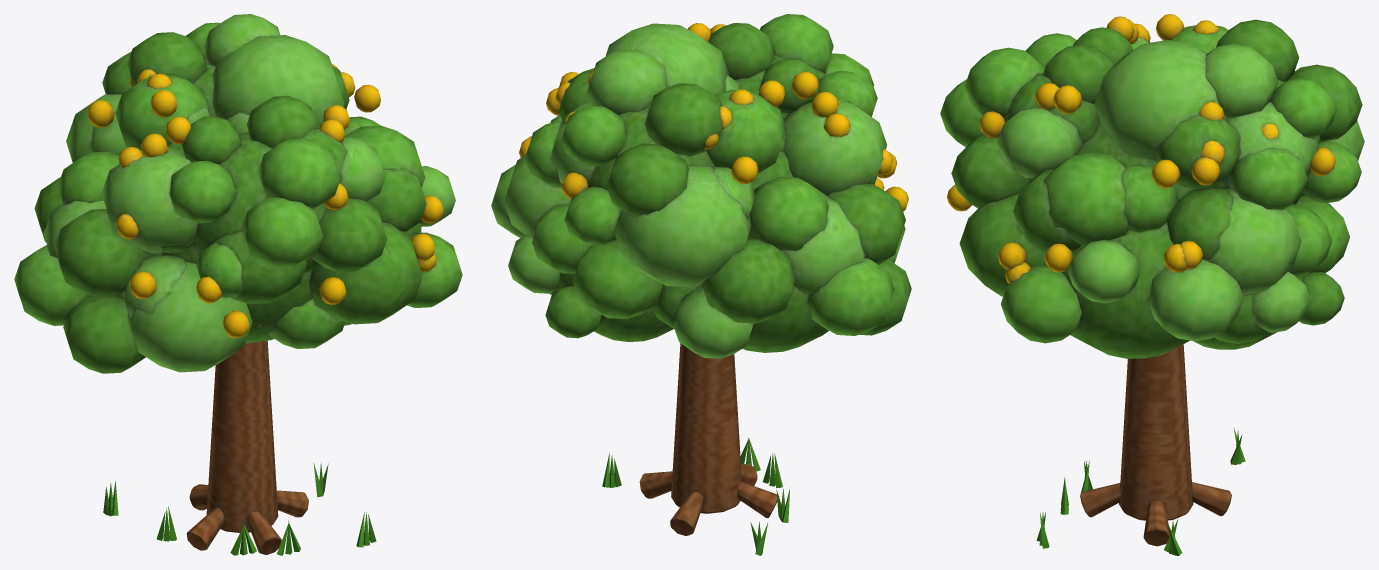
Rendered from golden_apple_tree.glb.
The picture shows the model from 3 angles, left to right: view 1: azimuth 30°, elevation 25°; view 2: azimuth 150°, elevation 25°; view 3: azimuth 270°, elevation 25°; orthographic projection. The views are drawn at different scales.
Visible parts, largest first — view 1: crown, golden_apple_tree; view 2: crown, golden_apple_tree; view 3: crown, golden_apple_tree.
Part boxes in pixels (bbox=[...]): crown: bbox=[14, 14, 462, 373]; golden_apple_tree: bbox=[103, 340, 376, 555]; crown: bbox=[491, 14, 911, 358]; golden_apple_tree: bbox=[602, 343, 790, 555]; crown: bbox=[940, 14, 1364, 358]; golden_apple_tree: bbox=[1036, 344, 1245, 555].
Bounding box in the file's own units: 1.14 × 1.31 × 1.02.
Materials: 1 (1 with a texture image).
